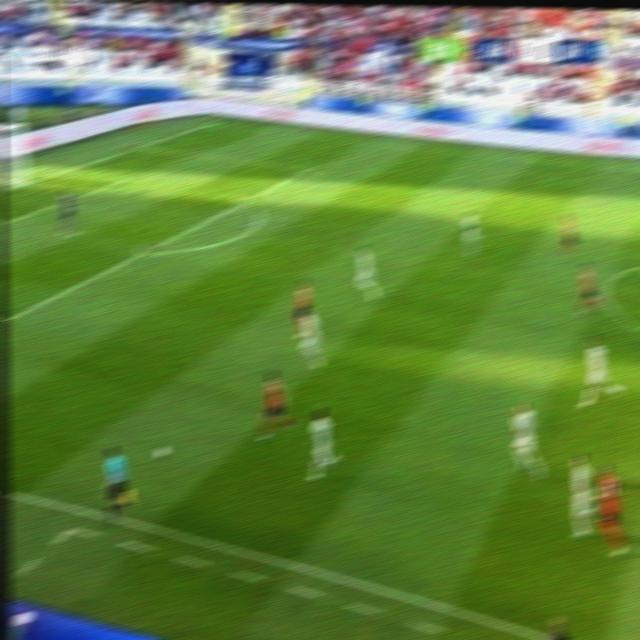bigarea_bottom_inner: (2, 310, 17, 327)
bigarea_top_inner: (294, 160, 319, 178)
bigarea_top_outter: (126, 140, 156, 154)
bottom_arc_area_intersection: (134, 244, 157, 260)
corner: (206, 120, 222, 127)
smallarea_top_inner: (112, 171, 137, 187)
top_arc_area_intersection: (232, 193, 260, 213)
